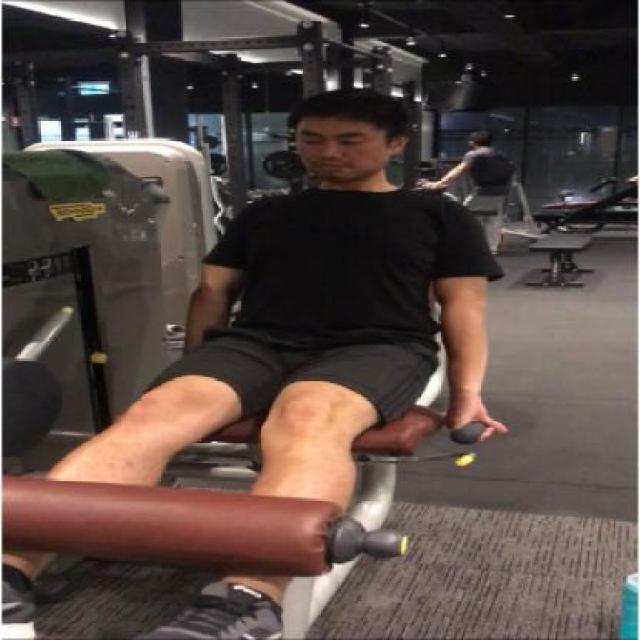leg extension: (0, 74, 534, 640)
